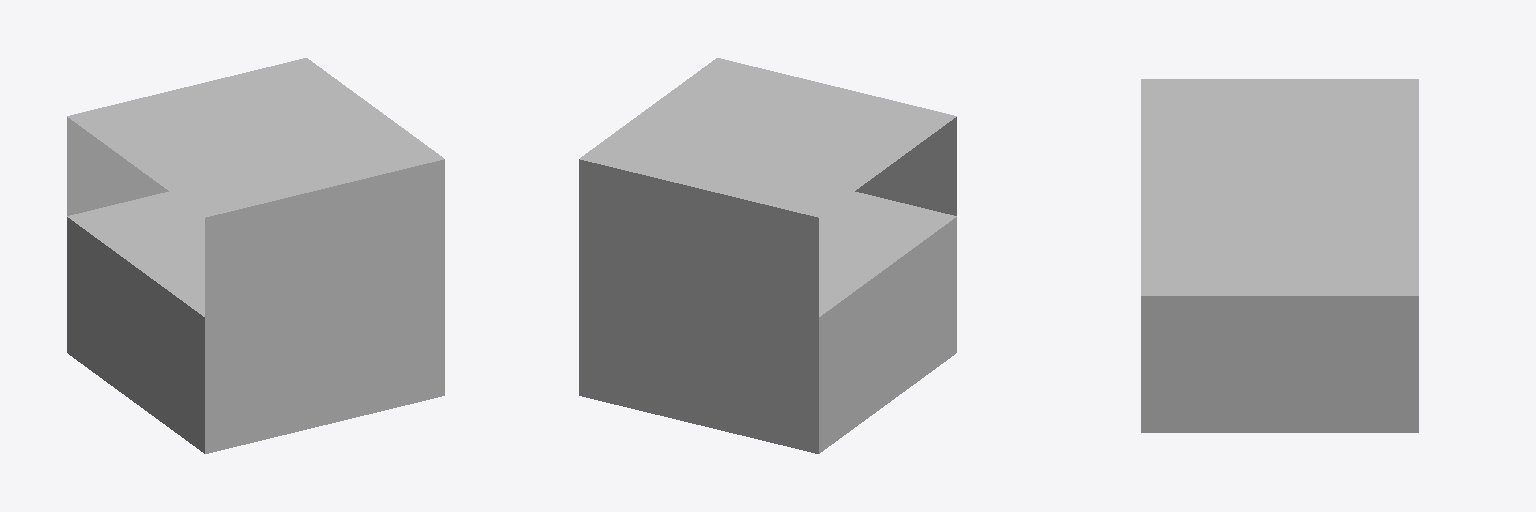
File: WATER_FIVE.obj
3 views of the same model, side by side, from view 1: azimuth 30°, elevation 25°; view 2: azimuth 150°, elevation 25°; view 3: azimuth 270°, elevation 25° (orthographic).
Visible parts, largest first — view 1: Water_5_Cube.006; view 2: Water_5_Cube.006; view 3: Water_5_Cube.006.
Part boxes in pixels (bbox=[...]): Water_5_Cube.006: bbox=[67, 58, 444, 453]; Water_5_Cube.006: bbox=[579, 58, 956, 453]; Water_5_Cube.006: bbox=[1141, 79, 1418, 432].
Size of the model in its own units: 4 by 3.77 by 4.